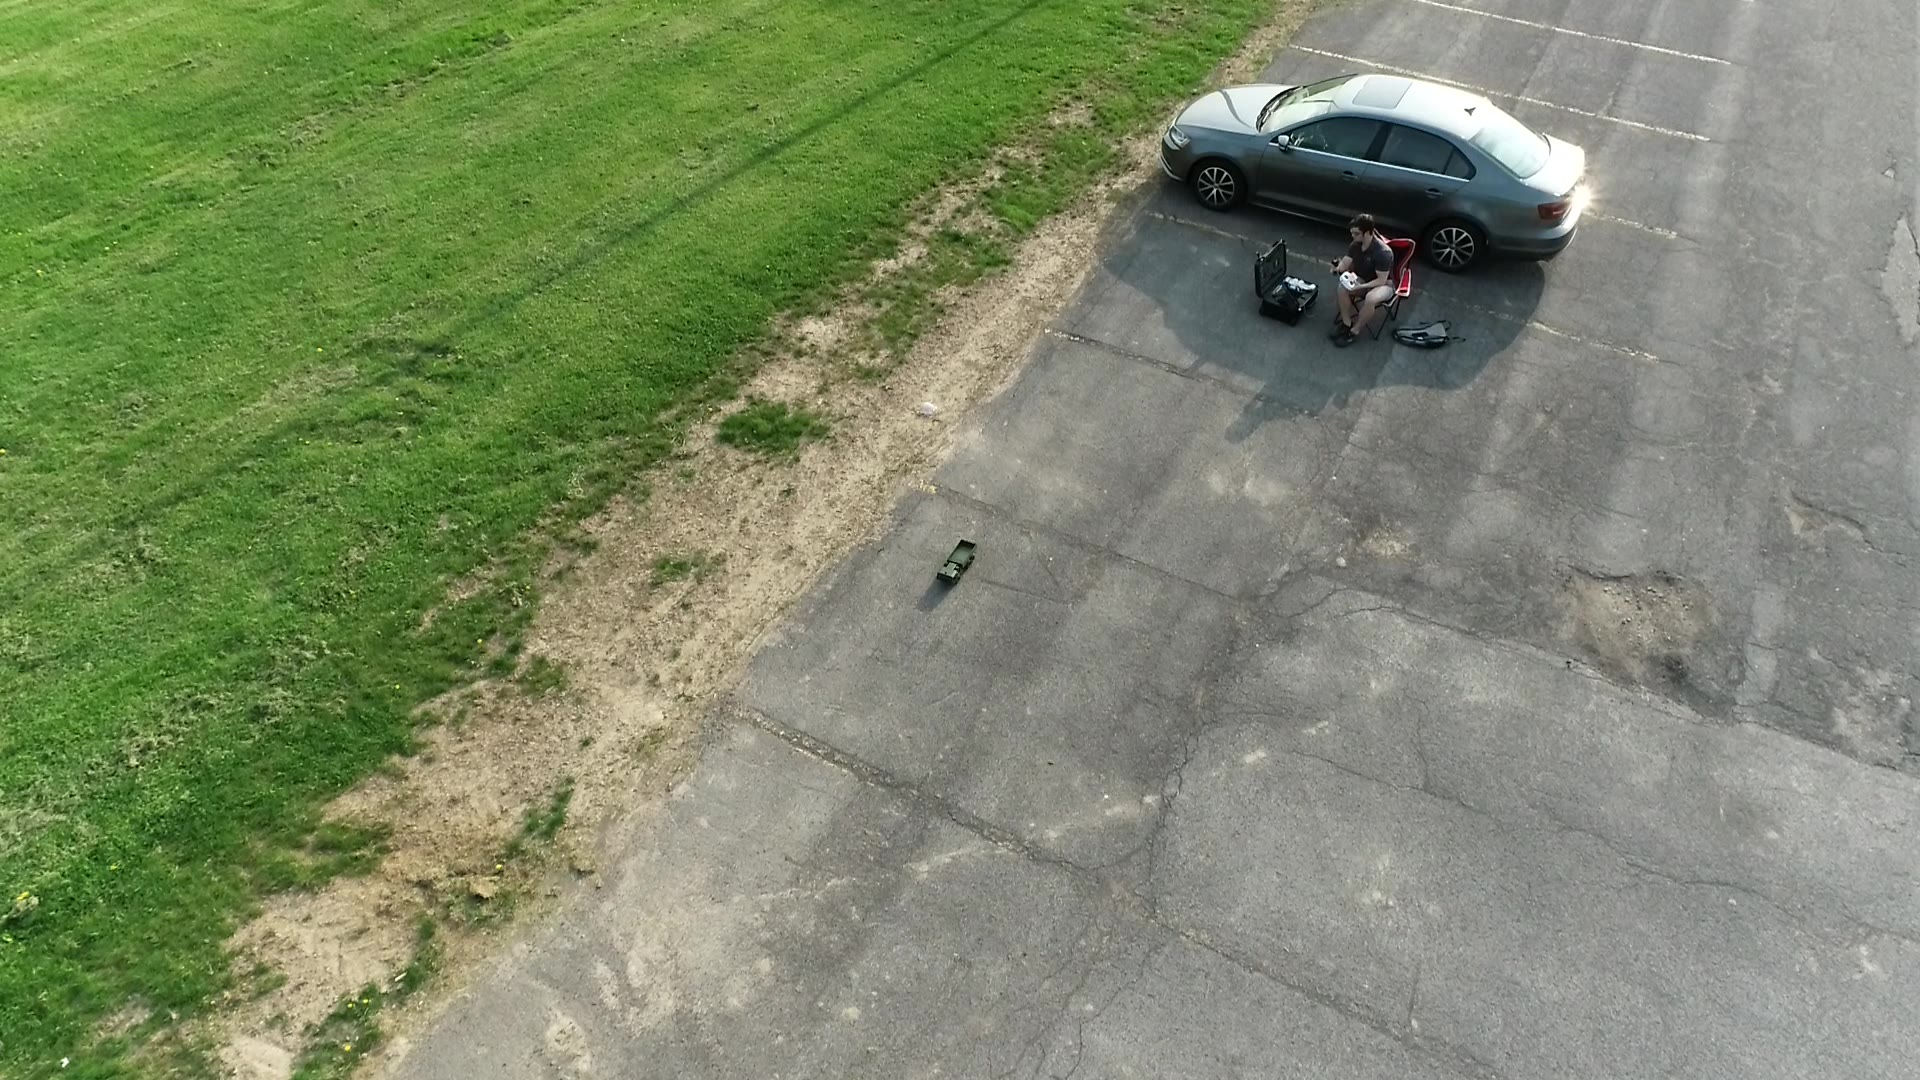transporter9: (934, 535, 980, 589)
